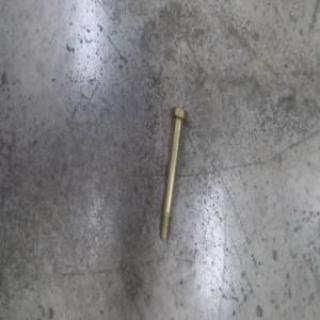Bolttrack_idkeyframe: (158, 104, 188, 244)
